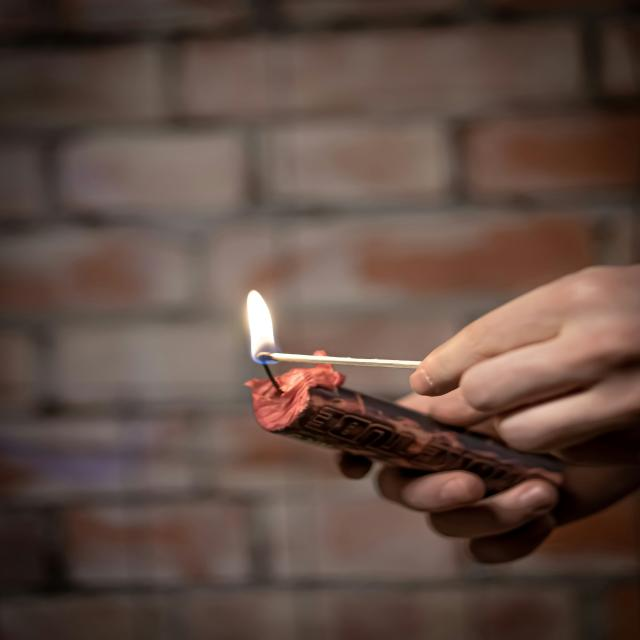fire: (247, 289, 280, 364)
